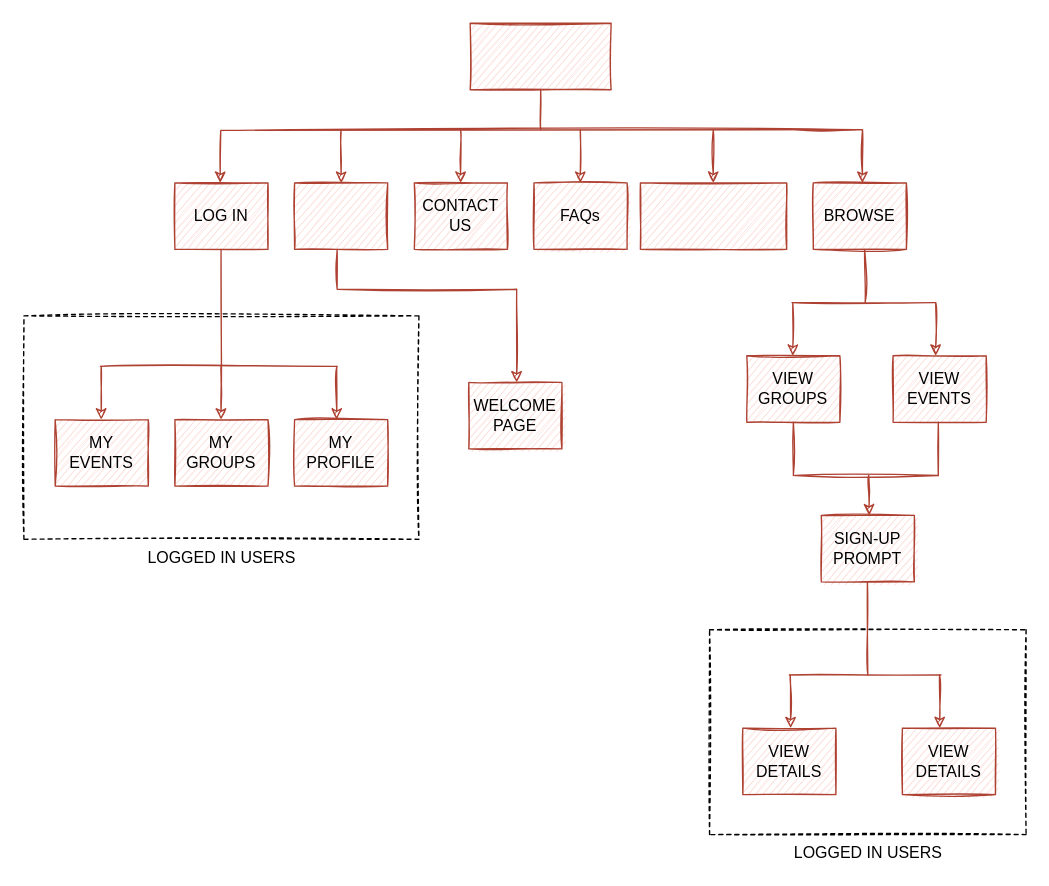
Some shapes in this 1049 by 886 pixel diagram are drawn without their labels. The shapes that lost their labels are listed below. From the top down, each one's centre as x and y in pixels, then its label:
the point at 540,56: HOMEPAGE / LANDING PAGE
the point at 340,215: SIGN UP
the point at 713,215: PRIVACY & ACCESSIBILITY
